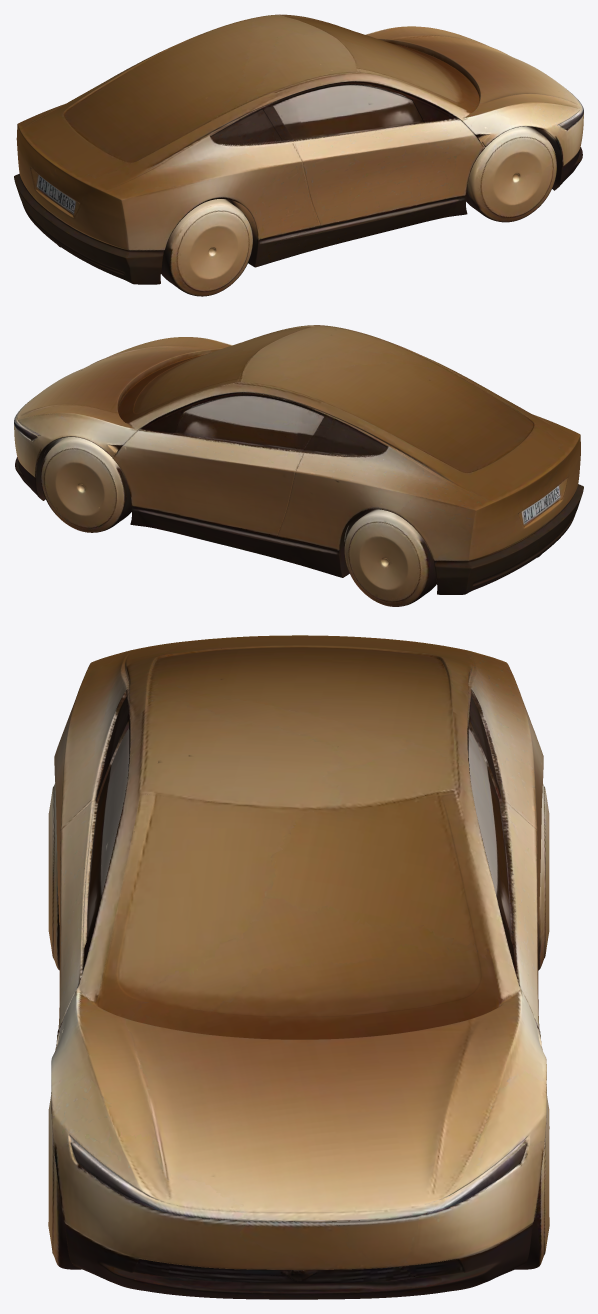
The model's file is cybercab_optimized.glb.
The picture shows the model from 3 angles, top to bottom: view 1: azimuth 30°, elevation 25°; view 2: azimuth 150°, elevation 25°; view 3: azimuth 270°, elevation 25°; orthographic projection. The views are drawn at different scales.
Visible parts, largest first — view 1: node_0; view 2: node_0; view 3: node_0.
Boxes of the visible parts, left/top/right/bottom form: node_0: left=14, top=14, right=583, bottom=296; node_0: left=14, top=325, right=583, bottom=606; node_0: left=48, top=635, right=549, bottom=1299.
Bounding box in the file's own units: 1.19 × 0.3907 × 0.5062.
1 material, 1 textured.
